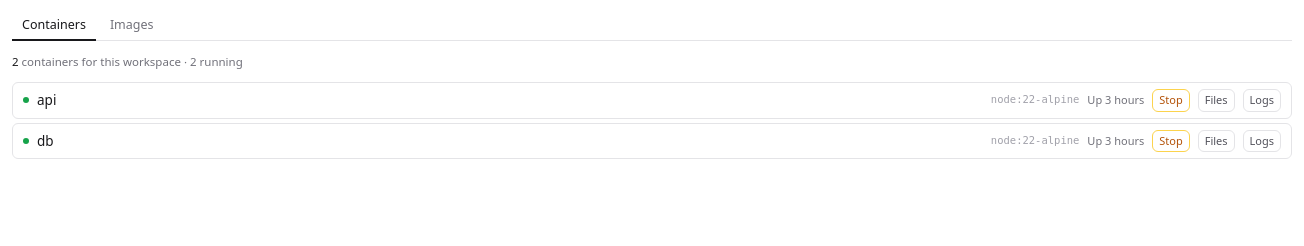
it: TASK-1896 — Logs and Files are one pane, and it closes › AC-1 — opening Files closes Logs
Click the button with test id "docker-logs-api": click(1262, 100) x1=1242 y1=89 x2=1281 y2=112
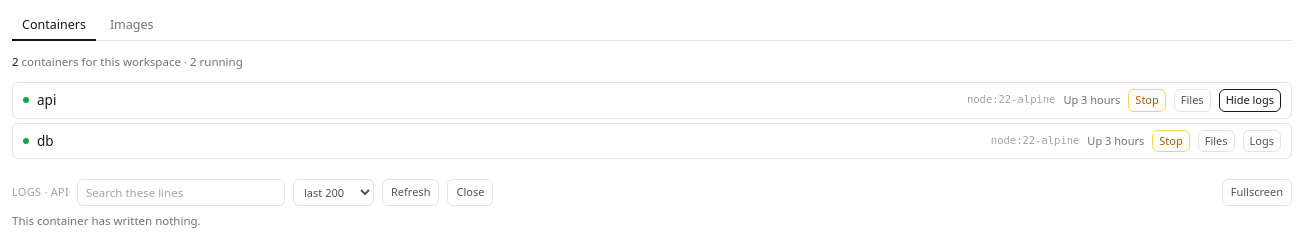
Expected: the element with test id "docker-logs-pane" is shown, x1=12 y1=179 x2=1292 y2=230
Click the button with test id "docker-files-api": click(1192, 100) x1=1174 y1=89 x2=1211 y2=112
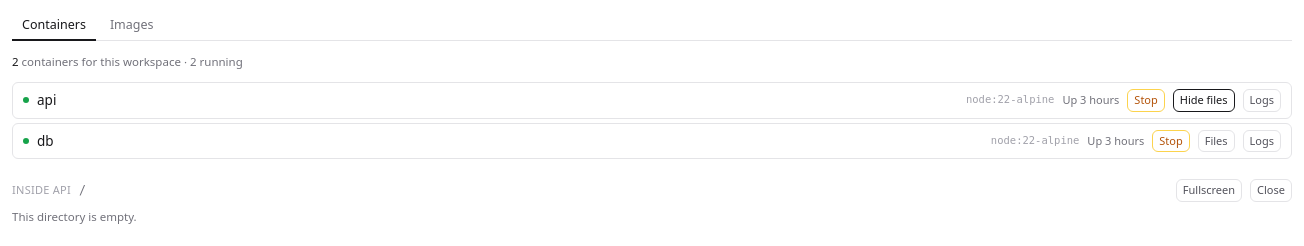
Expected: the element with test id "docker-logs-pane" is gone
Expected: the element with test id "container-files" is shown, x1=12 y1=179 x2=1292 y2=225
